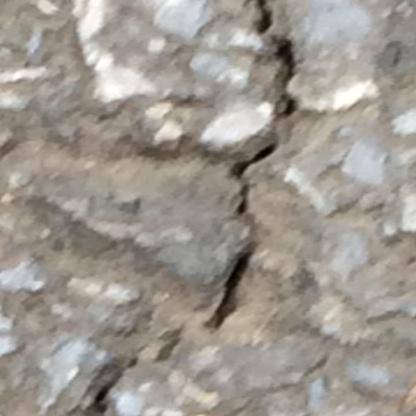Cracks: (241, 0, 303, 124), (202, 238, 262, 335), (228, 139, 282, 220), (73, 354, 142, 416)
